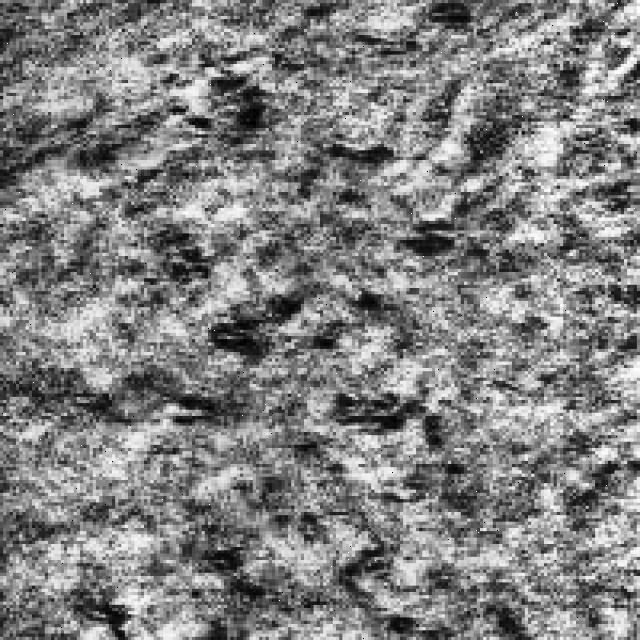Crazing: (144, 156, 461, 438)
